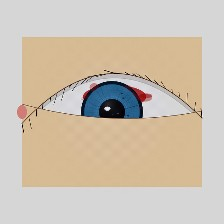hemorrhage_spot: (71, 62, 158, 132)
